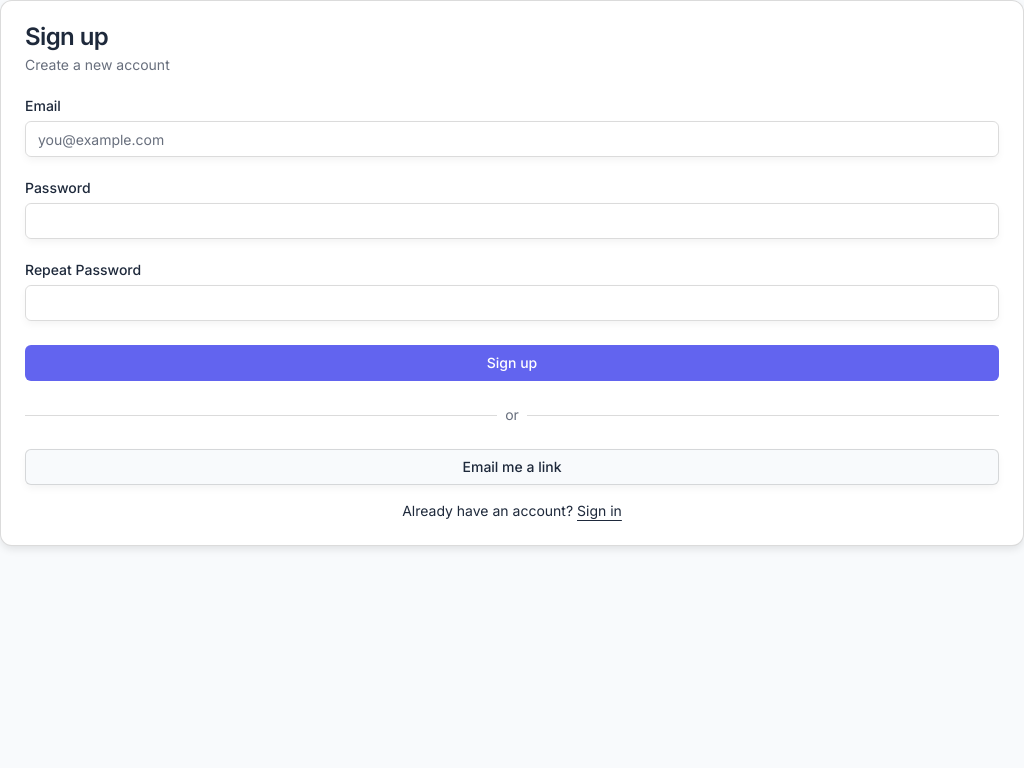
Test: SignUpForm › should show an error when passwords do not match
Type "new@example.com" into the field labelled "Email" at (512, 139), box [25,121,999,157]
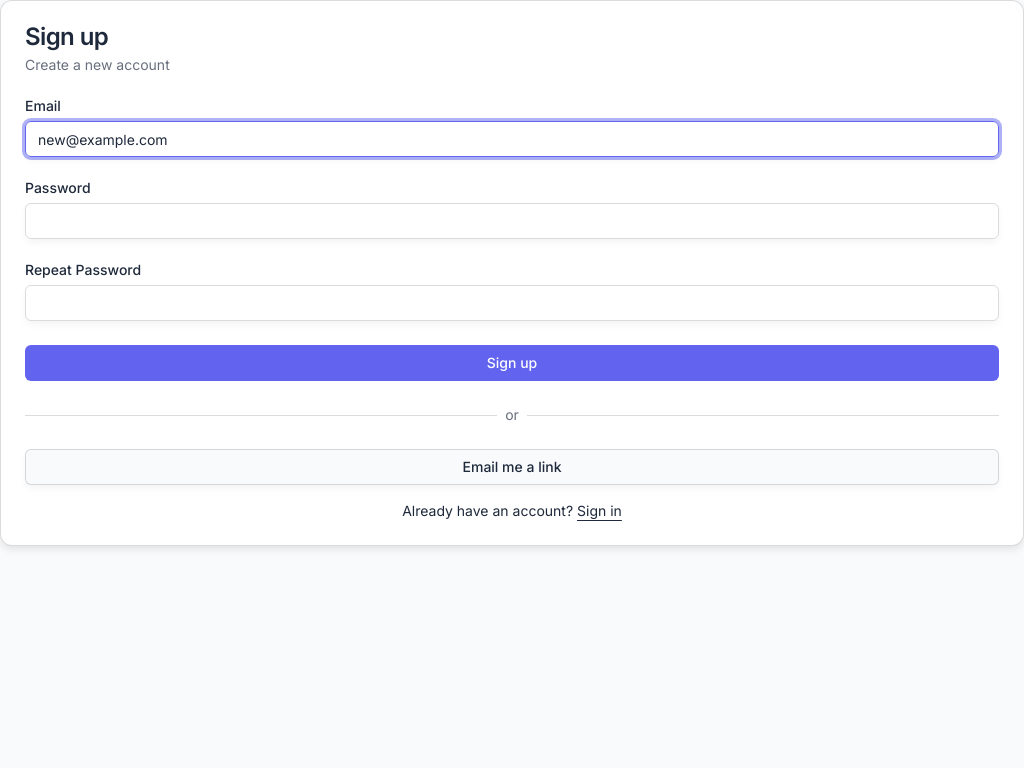
Type "password123" into the password field labelled "Password" at (512, 221), box [25,203,999,239]
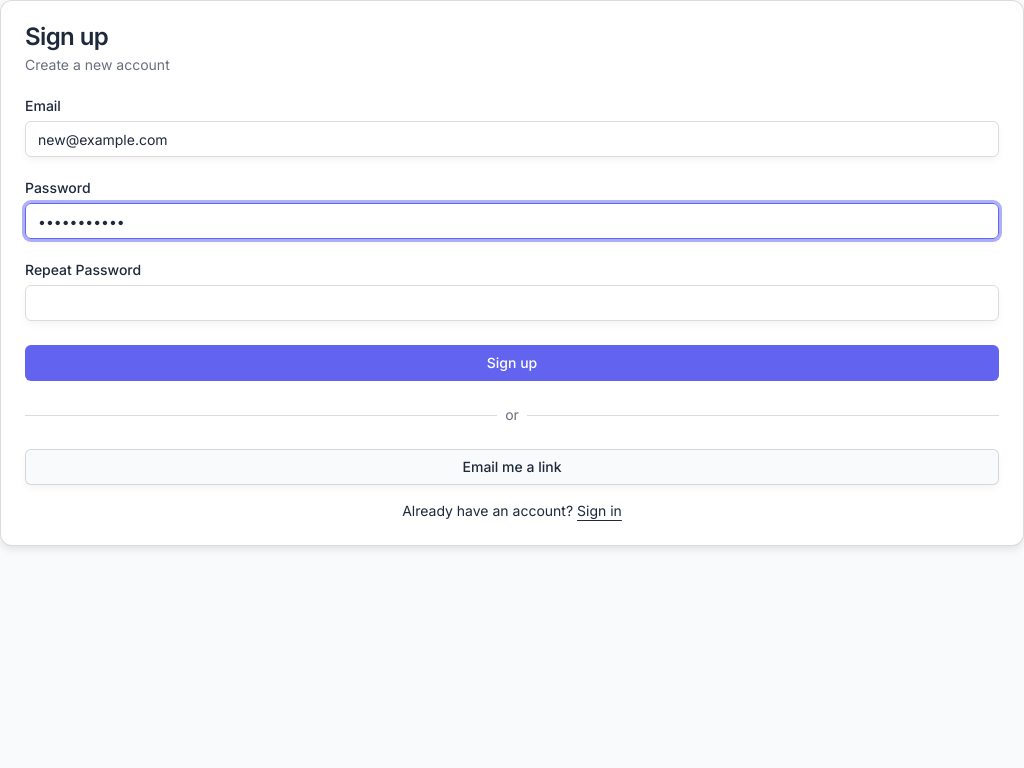
Type "different" into the password field labelled "Repeat Password" at (512, 303), box [25,285,999,321]
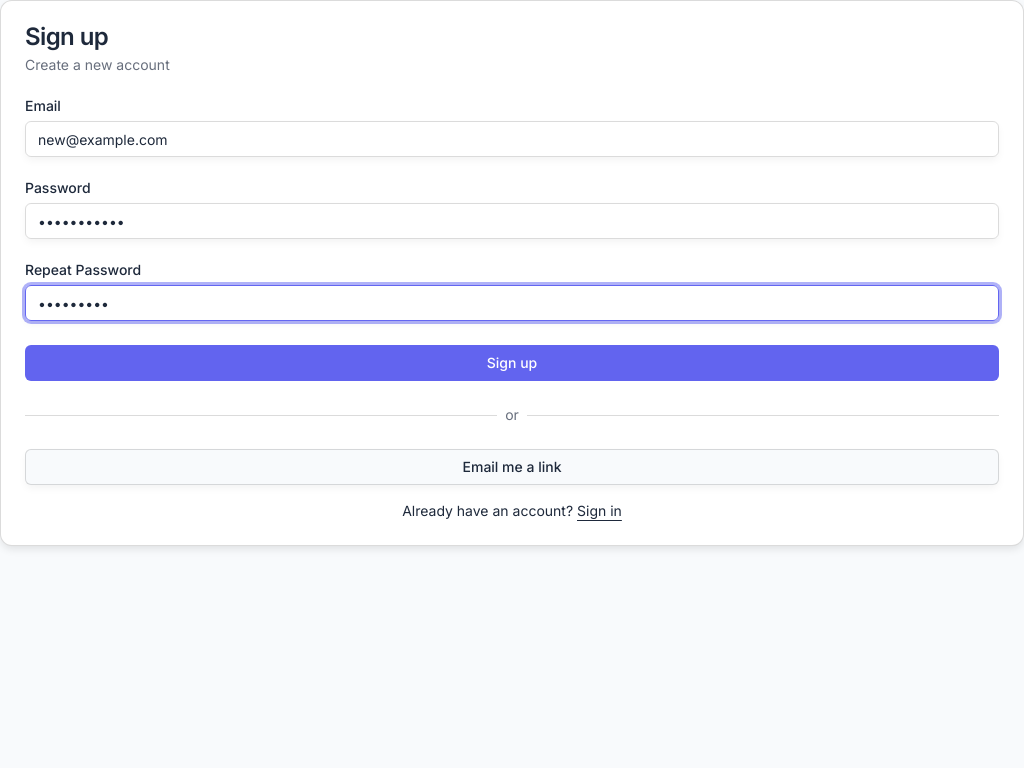
Click the button "Sign up" at (512, 363), box [25,345,999,381]
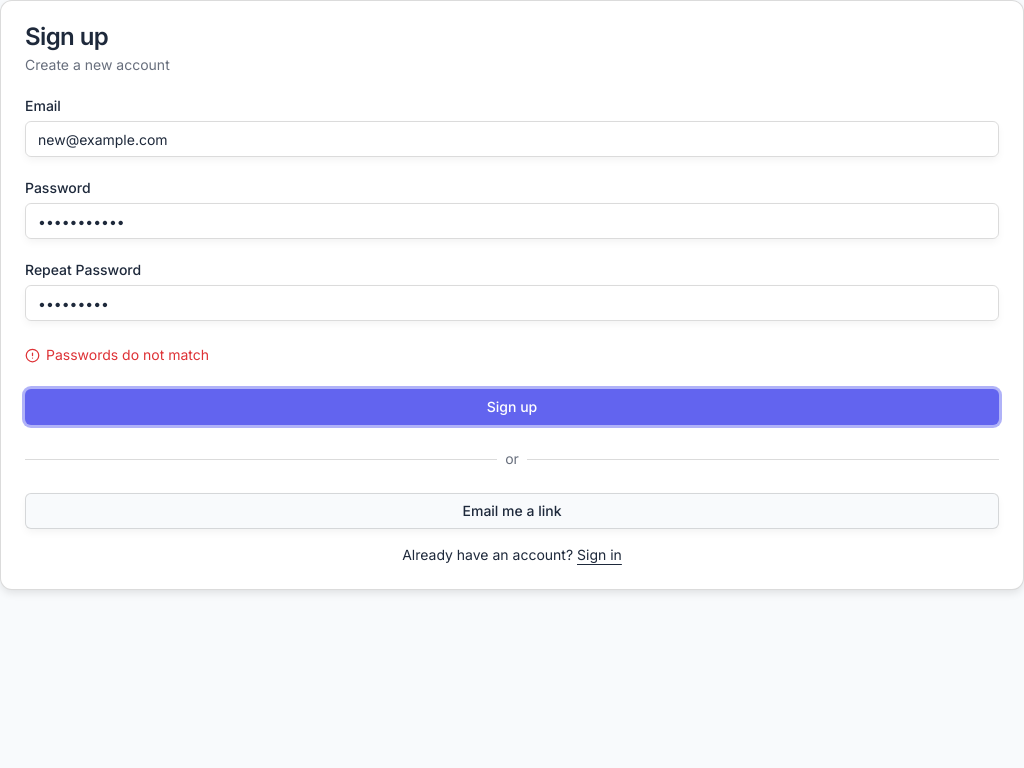
Check: the text "Passwords do not match" is shown, box [25,346,209,363]
